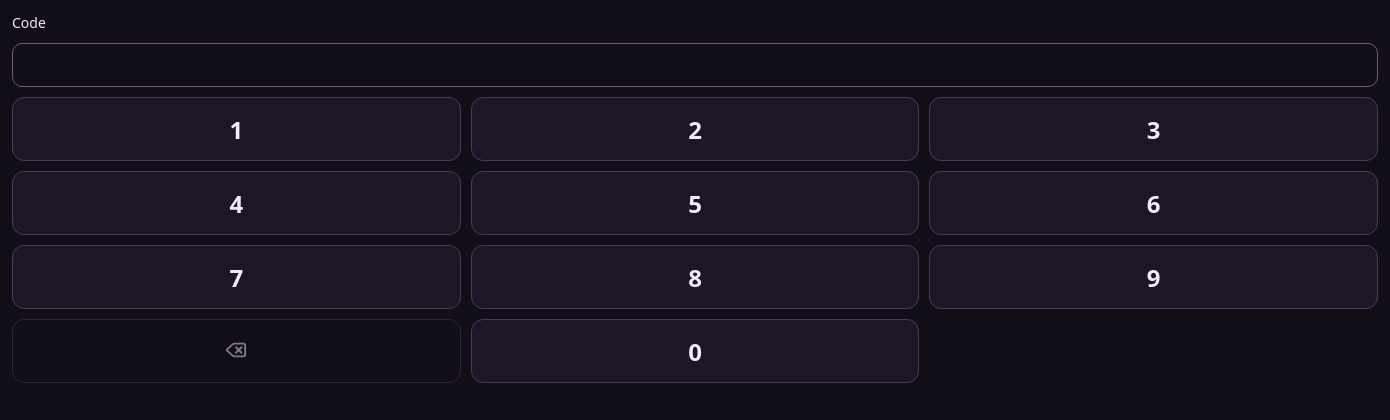
Test: le pavé numérique saisit, efface et plafonne la longueur
Click the button "1": (236, 129) 12,97 -> 461,161
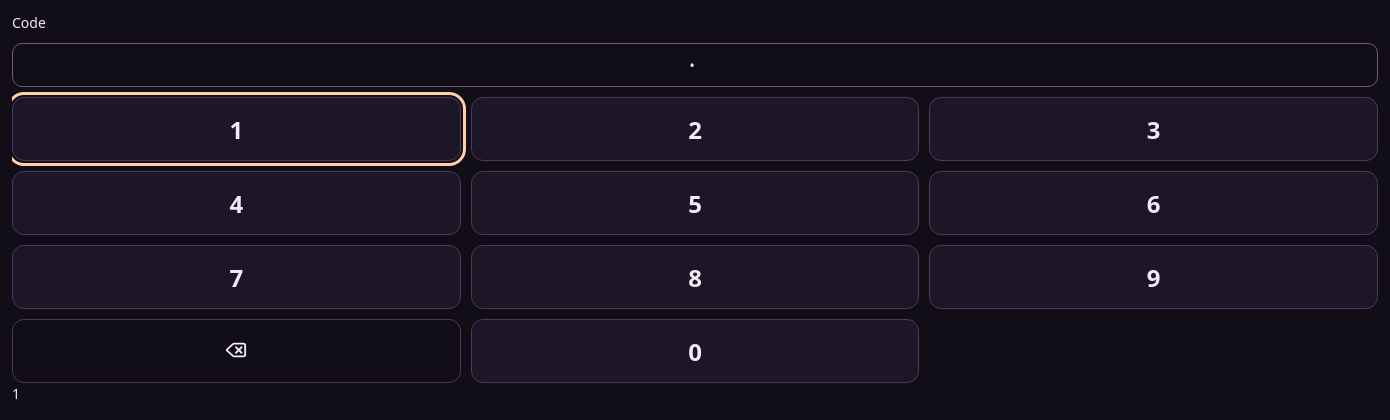
Click the button "2": (695, 129) 471,97 -> 919,161
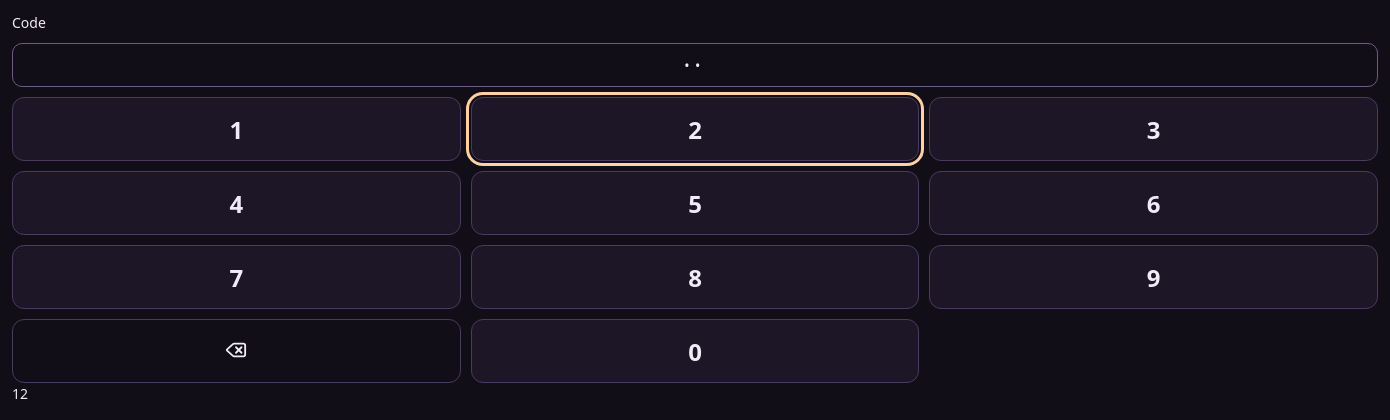
Click the button "3": (1154, 129) 929,97 -> 1378,161
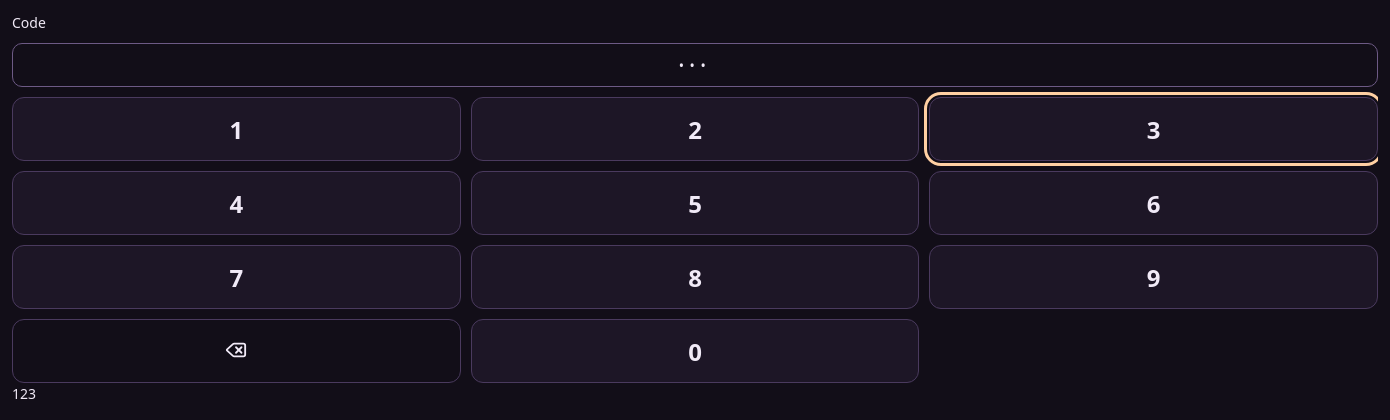
Click the button "4": (236, 203) 12,171 -> 461,235
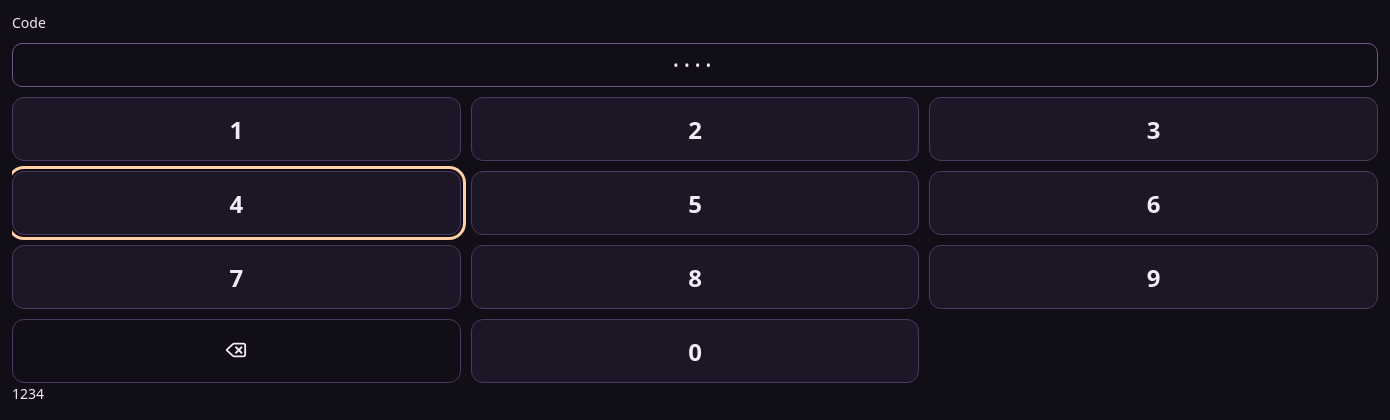
Click the button "5": (695, 203) 471,171 -> 919,235
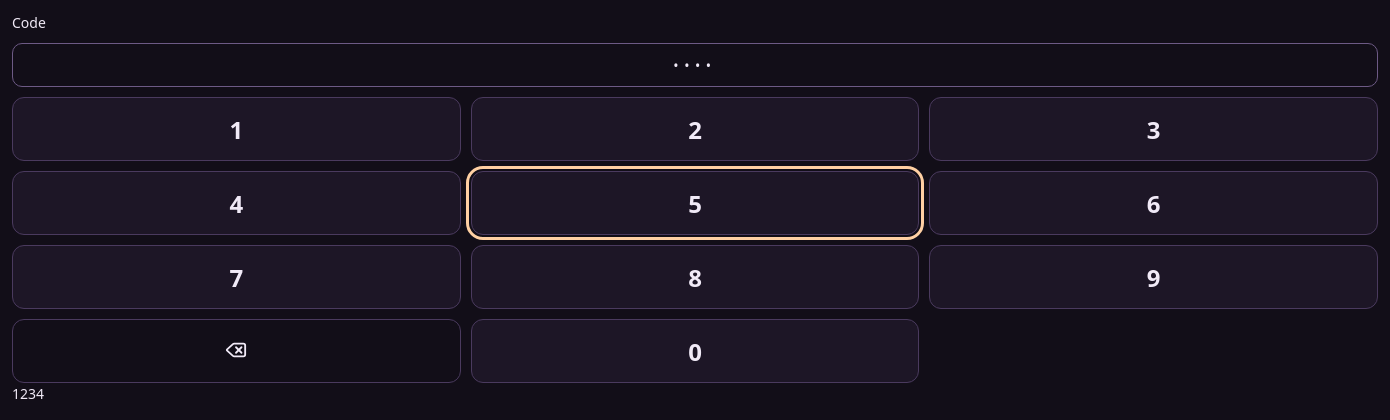
Check: the text named "valeur" reads "1234", box 12,384 -> 44,403
Click the button named "Effacer le dernier chiffre": (236, 351) 12,319 -> 461,383
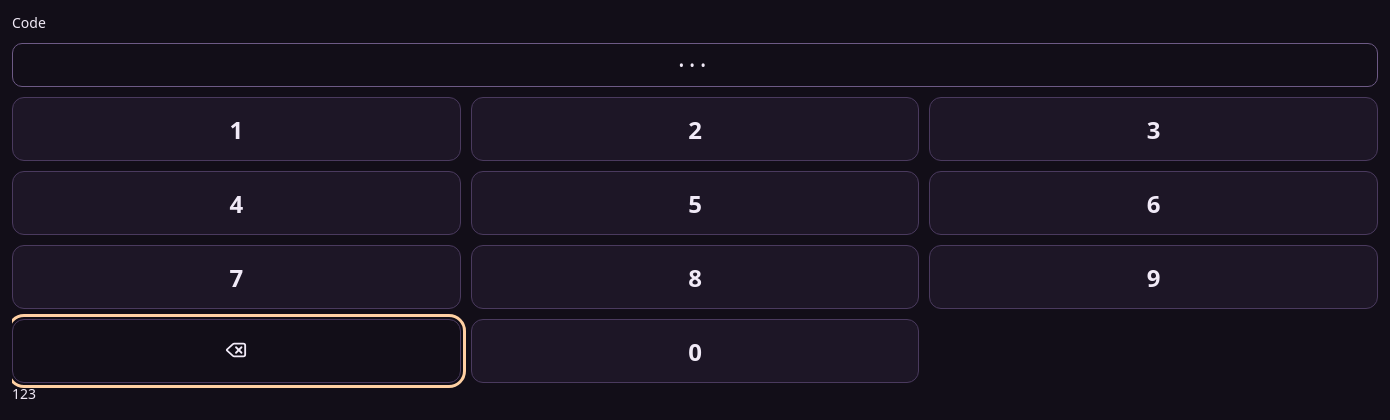
Check: the button "0" is shown, box 471,319 -> 919,383
Check: the text named "valeur" reads "123", box 12,384 -> 36,403
